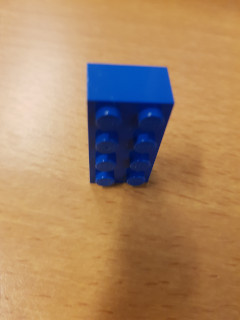2x4 blue: (80, 55, 176, 189)
